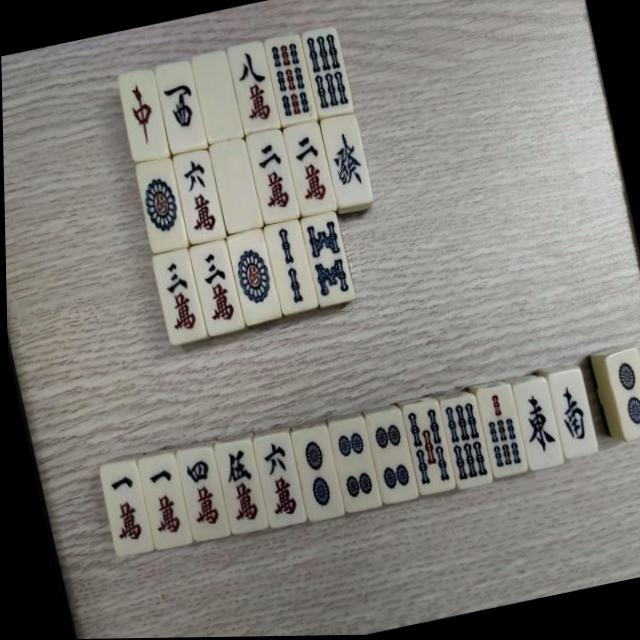hdg: (322, 118, 369, 203)
hdr: (117, 73, 167, 158)
hdw: (211, 143, 259, 232), (193, 55, 241, 138)
hwe: (513, 383, 561, 470)
hws: (549, 372, 596, 457)
hww: (157, 65, 204, 149)
sb2: (265, 223, 315, 312)
sb5: (403, 403, 450, 491)
sb6: (439, 398, 490, 488), (303, 29, 352, 115)
sb7: (476, 387, 524, 475)
sb8: (302, 216, 351, 305)
sb9: (266, 37, 315, 124)
sc1: (138, 455, 188, 546), (99, 463, 149, 553)
sc2: (247, 132, 297, 218), (285, 125, 333, 211)
sc3: (190, 244, 240, 331), (153, 253, 202, 339)
sc4: (176, 446, 224, 538)
sc5: (215, 442, 263, 530)
sc6: (253, 437, 302, 525), (174, 152, 223, 239)
sc8: (228, 45, 278, 131)
sd1: (228, 233, 279, 323), (135, 160, 185, 250)
sd2: (292, 429, 341, 518), (608, 355, 640, 438)
sd4: (329, 424, 377, 510), (366, 414, 413, 501)
